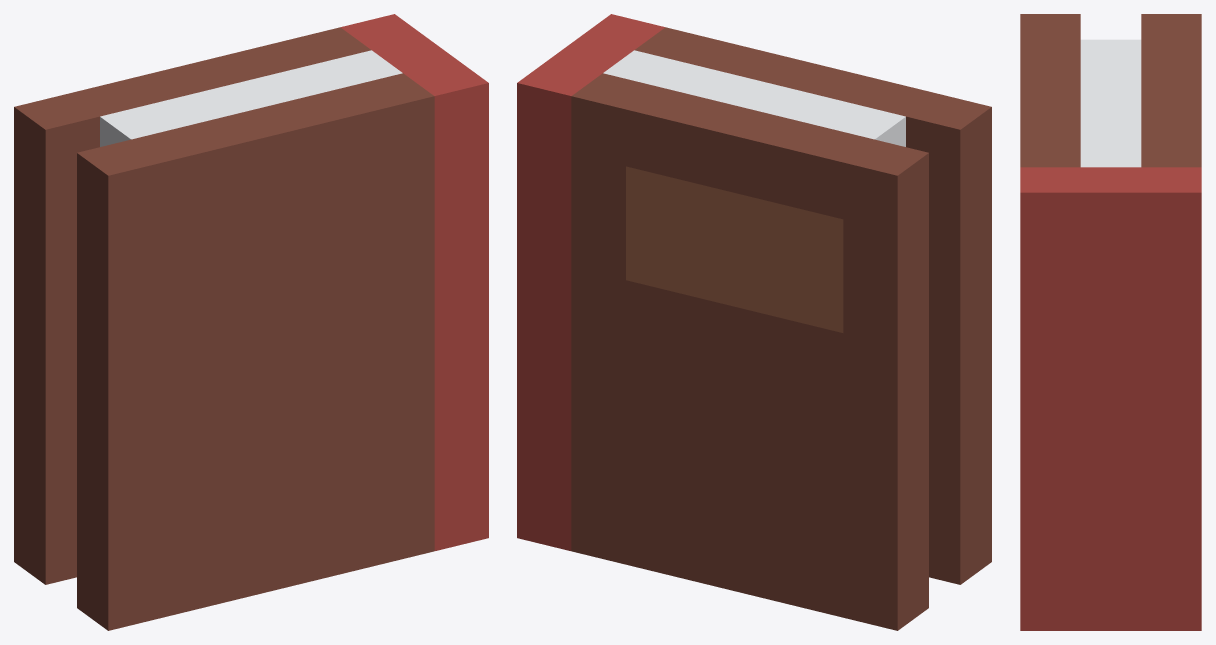
File: book-red.obj
3 renders of one model, left to right at view 1: azimuth 30°, elevation 25°; view 2: azimuth 150°, elevation 25°; view 3: azimuth 270°, elevation 25°, orthographic. The views are drawn at different scales.
Size of the model in its own units: 0.7 by 0.8 by 0.3.
Materials: 1 (1 with a texture image).
